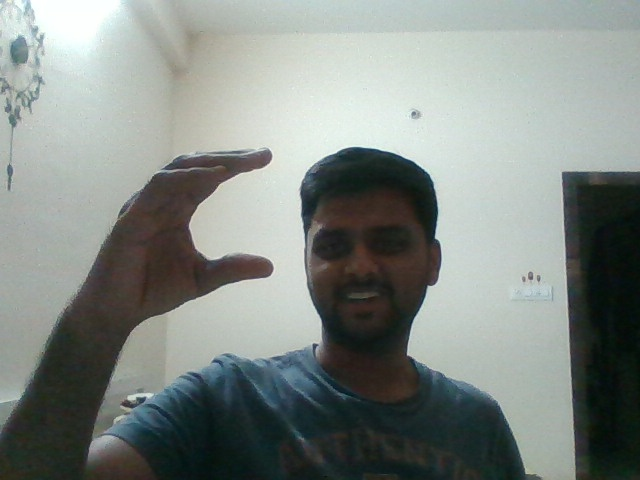no: (40, 114, 296, 338)
